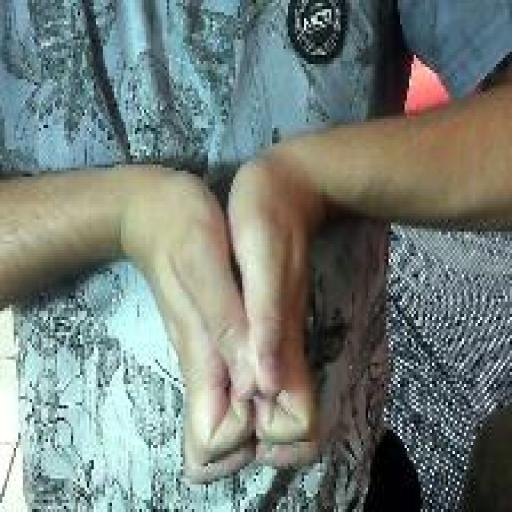I -boar-: (130, 152, 327, 488)
